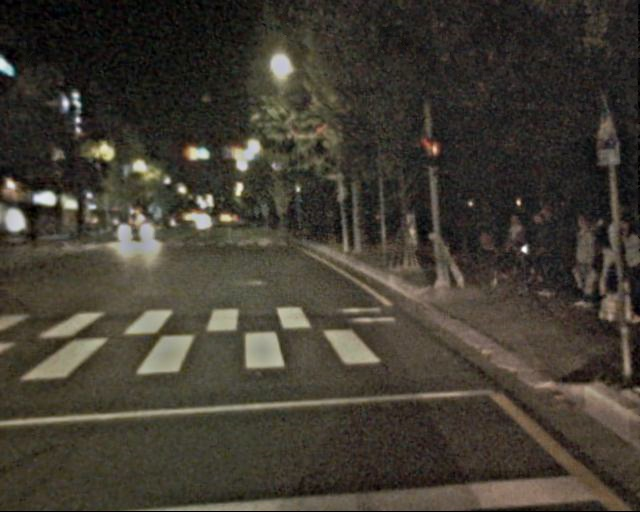person: (506, 209, 561, 295), (588, 205, 628, 303), (566, 216, 604, 309), (609, 214, 640, 325)
